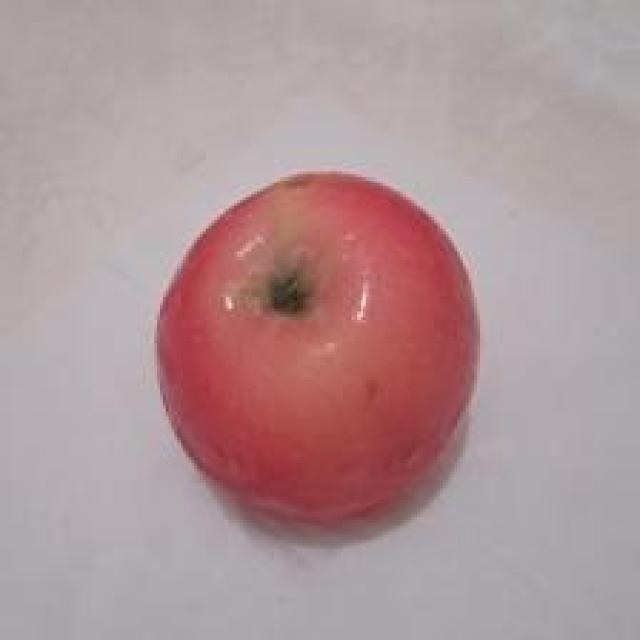apple: (109, 143, 532, 570)
